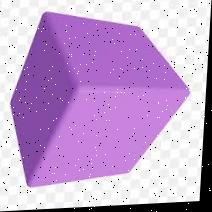cube: (7, 7, 195, 190)
